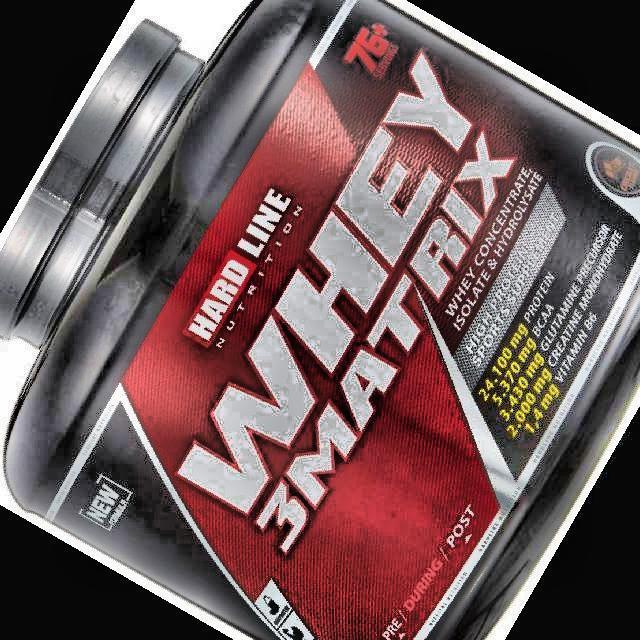plastic: (0, 1, 639, 639)
